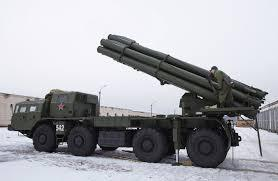MIL_SAM_TEL: (12, 32, 263, 167)
